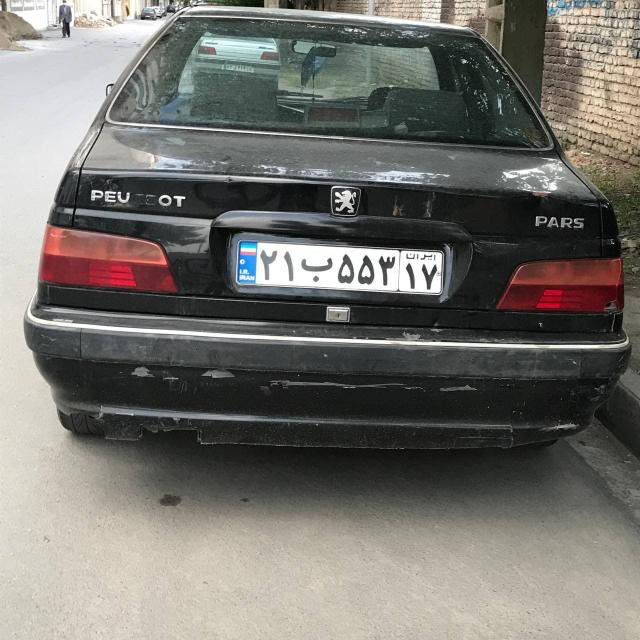Plates: (236, 241, 444, 294)
